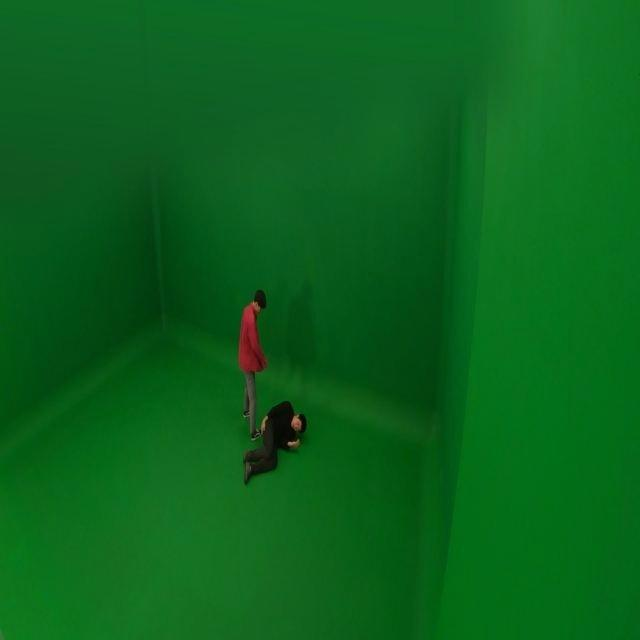fight: (235, 286, 310, 482)
